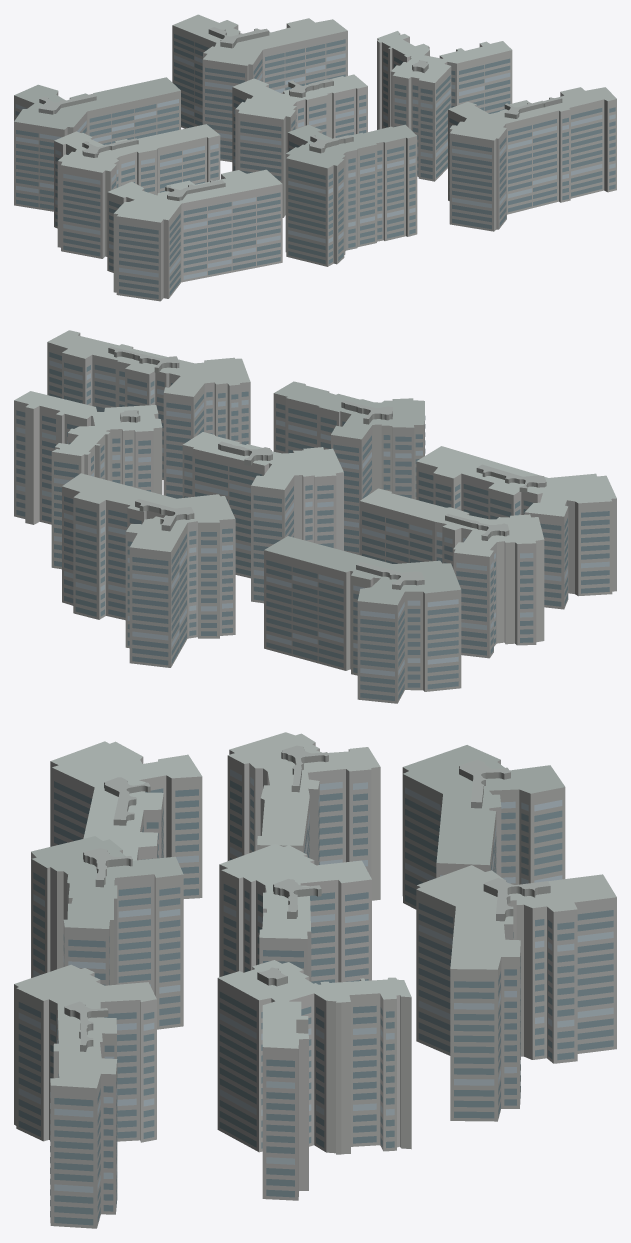
Rendered from apt-a10023482.glb.
The picture shows the model from 3 angles, top to bottom: view 1: azimuth 30°, elevation 25°; view 2: azimuth 150°, elevation 25°; view 3: azimuth 270°, elevation 25°; orthographic projection. The views are drawn at different scales.
Parts seen in each view (by area): view 1: apt-a10023482; view 2: apt-a10023482; view 3: apt-a10023482.
Part boxes in pixels (left/top/right/bottom): apt-a10023482: left=14, top=14, right=616, bottom=301; apt-a10023482: left=14, top=330, right=616, bottom=703; apt-a10023482: left=14, top=732, right=616, bottom=1228.
Size of the model in its own units: 197 by 40 by 137.
